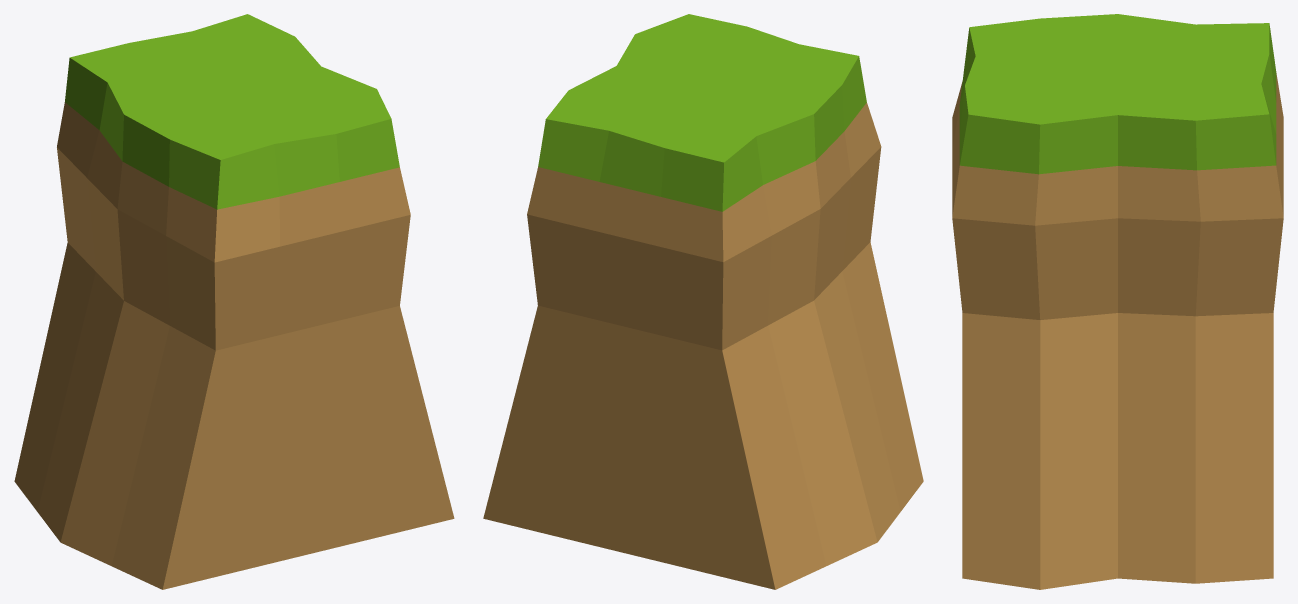
File: Silgle1.fbx
3 views of the same model, side by side, from view 1: azimuth 30°, elevation 25°; view 2: azimuth 150°, elevation 25°; view 3: azimuth 270°, elevation 25° (orthographic). The views are drawn at different scales.
Visible parts, largest first — view 1: Single_Tile.001; view 2: Single_Tile.001; view 3: Single_Tile.001.
Boxes of the visible parts, bbox=[...] form: Single_Tile.001: bbox=[14, 14, 454, 589]; Single_Tile.001: bbox=[483, 14, 923, 589]; Single_Tile.001: bbox=[952, 14, 1283, 589].
Bounding box in the file's own units: 722 × 831 × 576.
